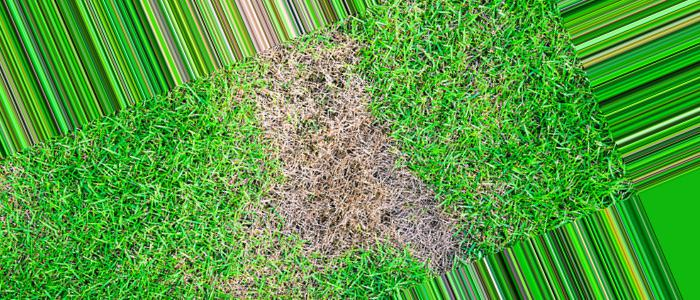patch: (272, 71, 383, 253)
